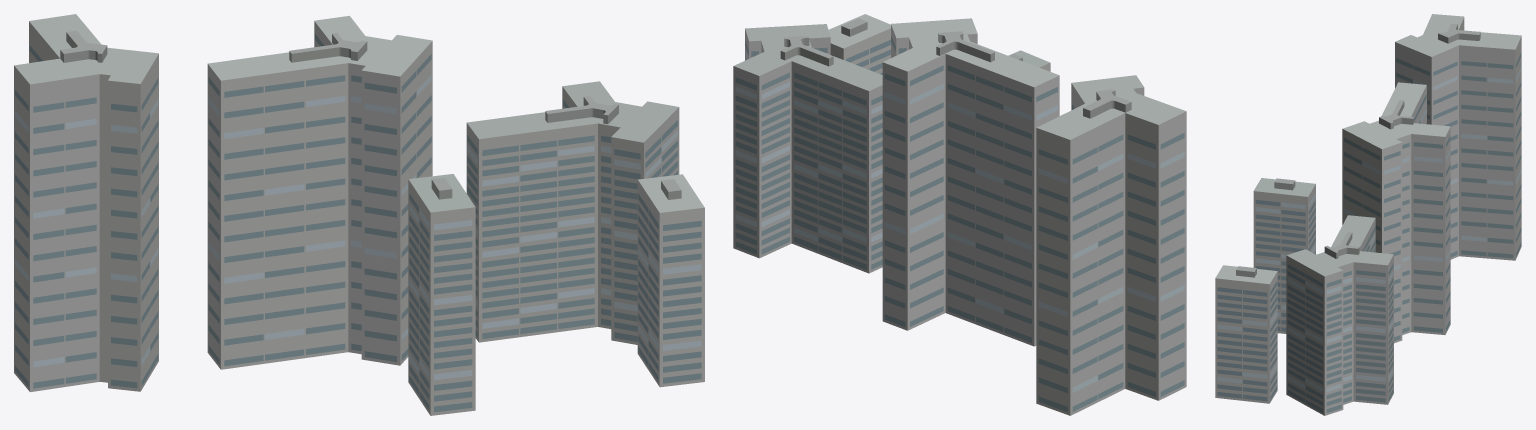
File: apt-a10027090.glb
3 views of the same model, side by side, from view 1: azimuth 30°, elevation 25°; view 2: azimuth 150°, elevation 25°; view 3: azimuth 270°, elevation 25° (orthographic). The views are drawn at different scales.
Parts seen in each view (by area): view 1: apt-a10027090; view 2: apt-a10027090; view 3: apt-a10027090.
Boxes of the visible parts, x1,y1,x2,y2 form: apt-a10027090: (14, 14, 704, 415); apt-a10027090: (733, 14, 1186, 415); apt-a10027090: (1215, 14, 1521, 415).
Bounding box in the file's own units: 160 × 85 × 109.
